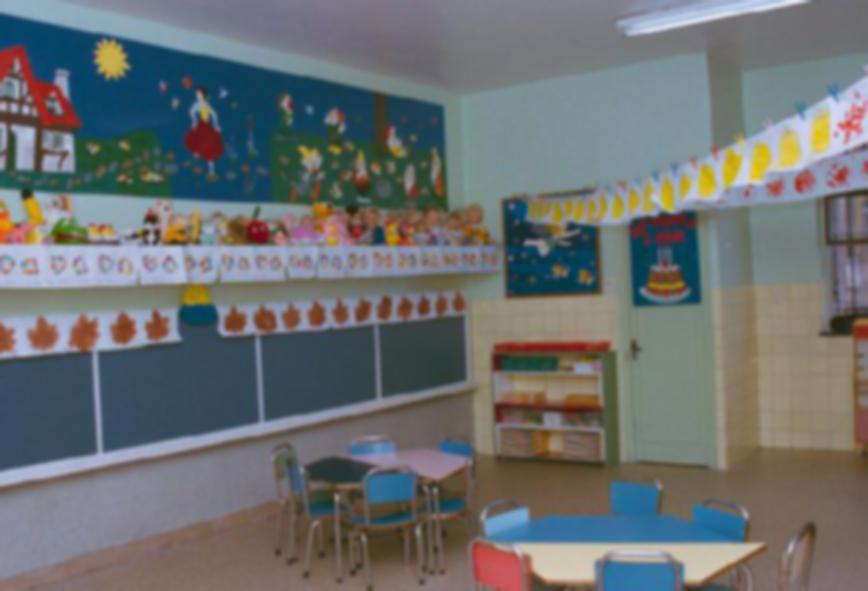Puerta: (619, 222, 715, 465)
